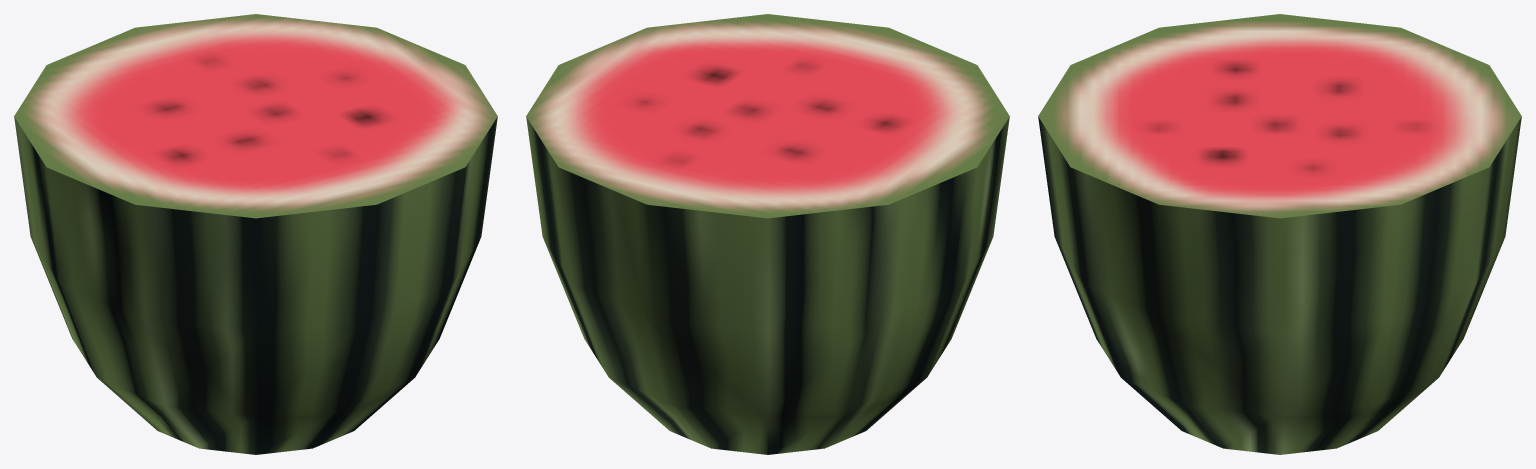
The model's file is assets_watermelon_half.fbx.
3 views of the same model, side by side, from view 1: azimuth 30°, elevation 25°; view 2: azimuth 150°, elevation 25°; view 3: azimuth 270°, elevation 25° (orthographic).
Visible parts, largest first — view 1: assets_watermelon_half; view 2: assets_watermelon_half; view 3: assets_watermelon_half.
Boxes of the visible parts, x1,y1,x2,y2 form: assets_watermelon_half: [14, 14, 497, 454]; assets_watermelon_half: [526, 14, 1009, 454]; assets_watermelon_half: [1038, 14, 1521, 454].
Size of the model in its own units: 2.01 by 1.44 by 2.01.
